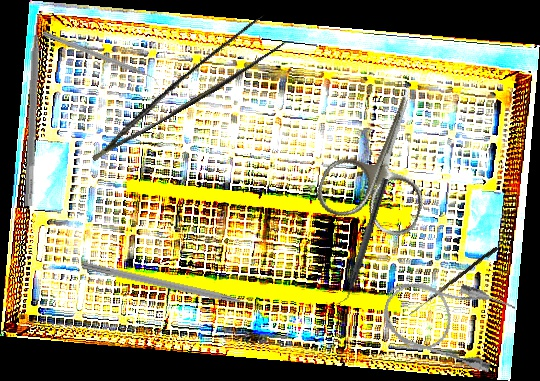Cannula: (375, 264, 518, 375)
Chopper: (79, 261, 265, 321), (39, 30, 162, 90), (334, 175, 389, 309)
Hook Surgical: (408, 244, 499, 320)
Iris Scissors: (311, 71, 459, 243)
Spatula Surgical: (24, 10, 48, 207)
Tissue Forceps: (73, 11, 291, 162)
